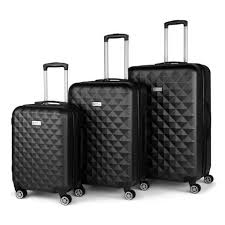suitcase: (128, 19, 215, 194), (63, 33, 152, 201), (10, 61, 85, 204)
